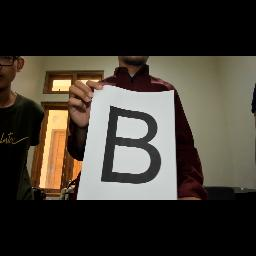b: (98, 102, 164, 198)
